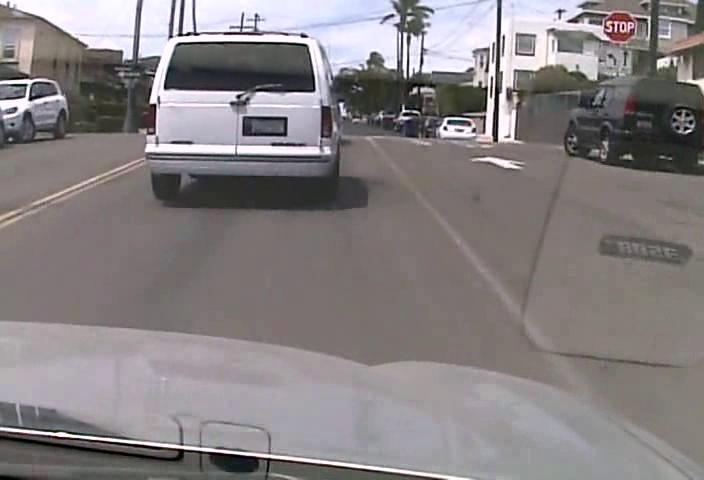stop: (603, 10, 636, 43)
